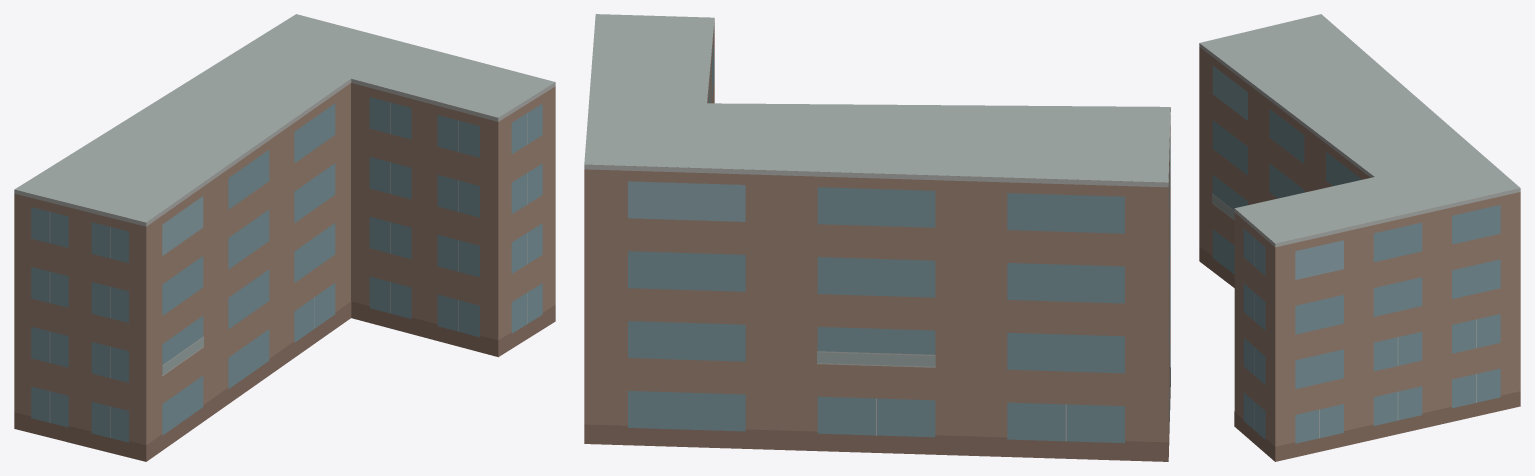
The model's file is survey-upis-32495343.glb.
The picture shows the model from 3 angles, left to right: view 1: azimuth 30°, elevation 25°; view 2: azimuth 150°, elevation 25°; view 3: azimuth 270°, elevation 25°; orthographic projection. The views are drawn at different scales.
Parts seen in each view (by area): view 1: survey-upis-32495343.tmp; view 2: survey-upis-32495343.tmp; view 3: survey-upis-32495343.tmp.
Part boxes in pixels (left/top/right/bottom): survey-upis-32495343.tmp: left=14, top=14, right=555, bottom=461; survey-upis-32495343.tmp: left=584, top=14, right=1170, bottom=461; survey-upis-32495343.tmp: left=1199, top=14, right=1520, bottom=461.
Size of the model in its own units: 31.87 by 14.12 by 18.86.
